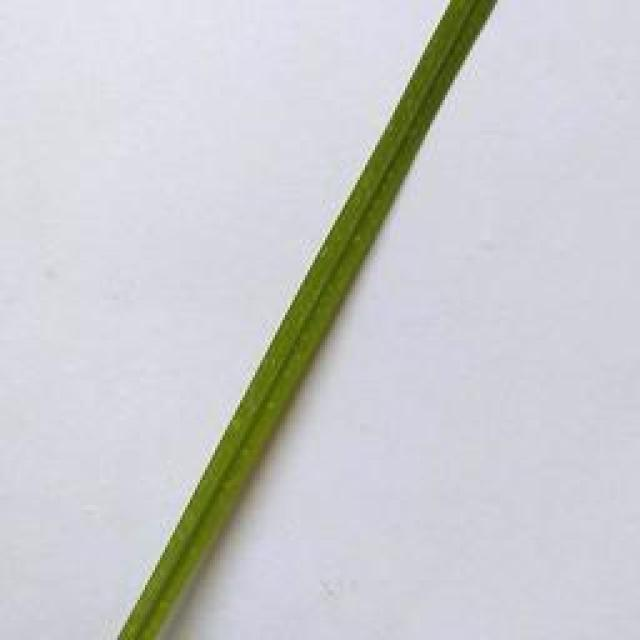Healthy-Plant: (109, 0, 498, 640)
